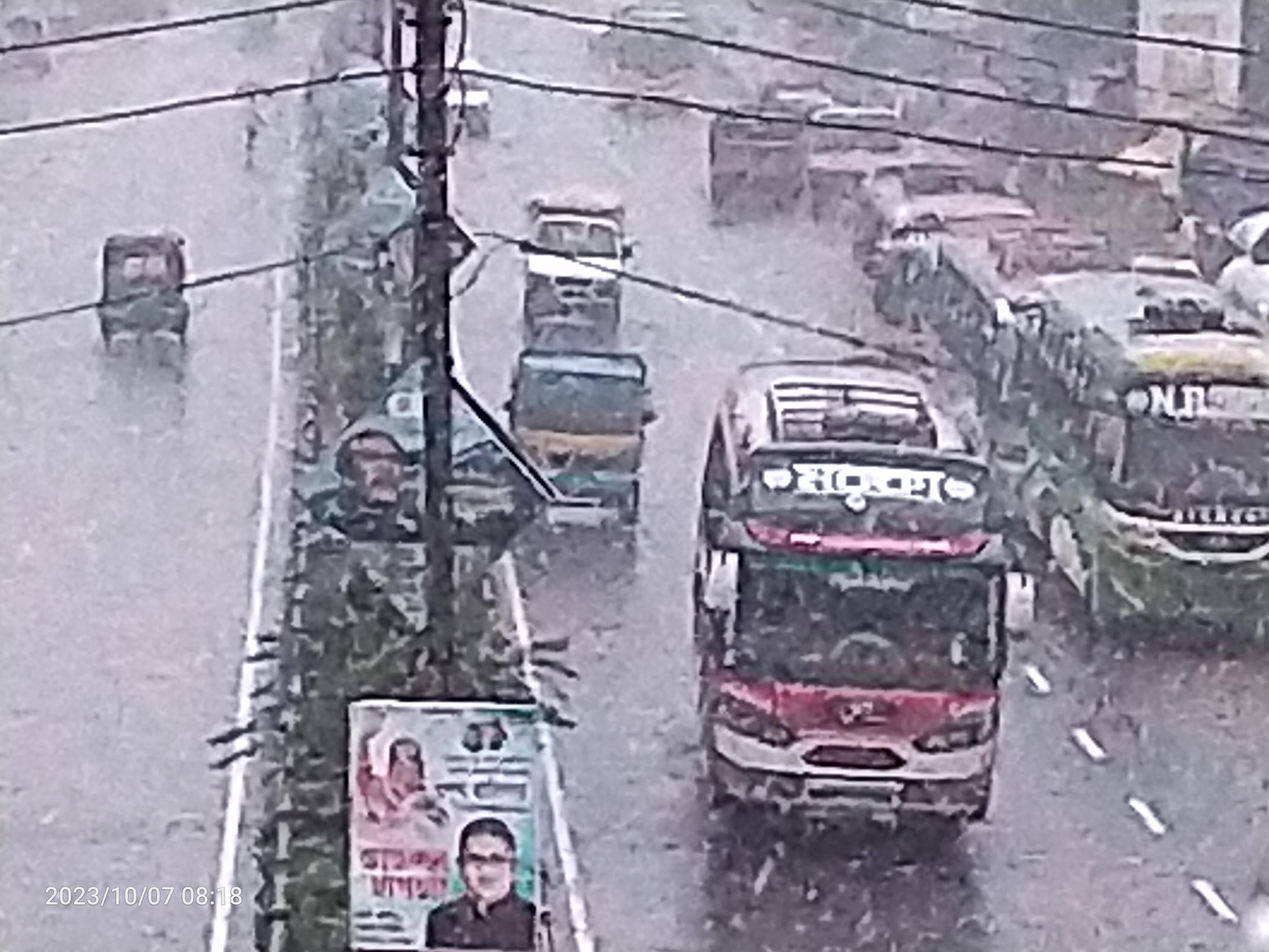Bus: (666, 334, 1050, 897), (973, 255, 1269, 646)
Car: (497, 166, 642, 352), (409, 42, 496, 158)
Truck: (467, 334, 692, 554), (666, 68, 817, 208)
